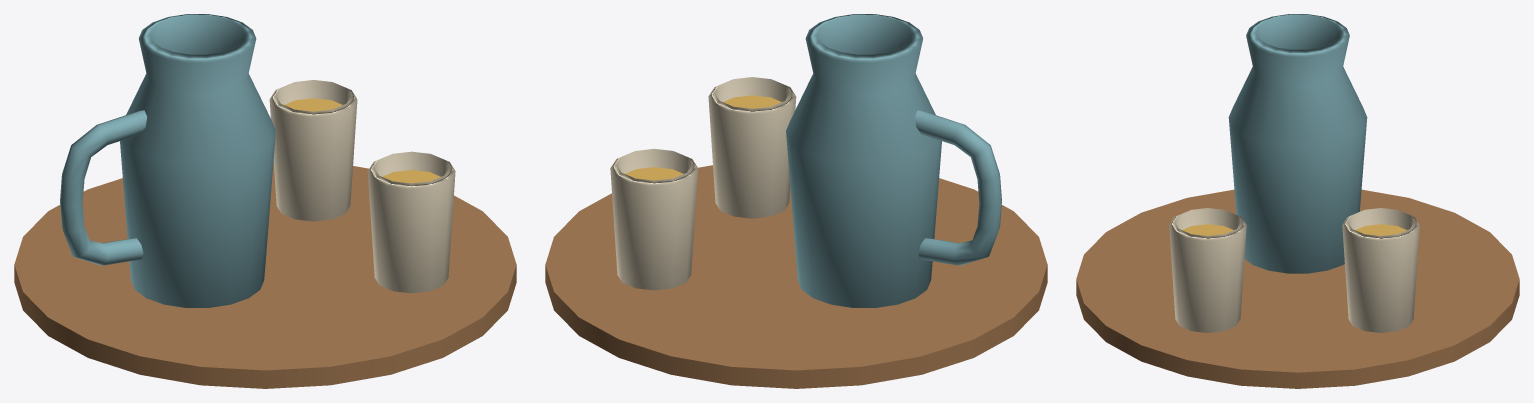
The model's file is almanac-gardens-lemonade-tray-2cc4592a__22076.glb.
3 views of the same model, side by side, from view 1: azimuth 30°, elevation 25°; view 2: azimuth 150°, elevation 25°; view 3: azimuth 270°, elevation 25° (orthographic). The views are drawn at different scales.
Parts seen in each view (by area): view 1: lemonade-tray-oak, lemonade-tray-blue, lemonade-tray-ivory, lemonade-tray-gold; view 2: lemonade-tray-oak, lemonade-tray-blue, lemonade-tray-ivory, lemonade-tray-gold; view 3: lemonade-tray-oak, lemonade-tray-blue, lemonade-tray-ivory, lemonade-tray-gold.
Boxes of the visible parts, left/top/right/bottom form: lemonade-tray-oak: left=14, top=163, right=516, bottom=388; lemonade-tray-blue: left=60, top=14, right=275, bottom=307; lemonade-tray-ivory: left=269, top=80, right=455, bottom=293; lemonade-tray-gold: left=284, top=98, right=440, bottom=183; lemonade-tray-oak: left=545, top=165, right=1047, bottom=388; lemonade-tray-blue: left=786, top=14, right=1001, bottom=307; lemonade-tray-ivory: left=610, top=77, right=796, bottom=290; lemonade-tray-gold: left=625, top=95, right=781, bottom=180; lemonade-tray-oak: left=1076, top=189, right=1519, bottom=388; lemonade-tray-blue: left=1228, top=14, right=1367, bottom=273; lemonade-tray-ivory: left=1169, top=208, right=1419, bottom=332; lemonade-tray-gold: left=1182, top=224, right=1406, bottom=235.
Size of the model in its own units: 0.64 by 0.372 by 0.64.
